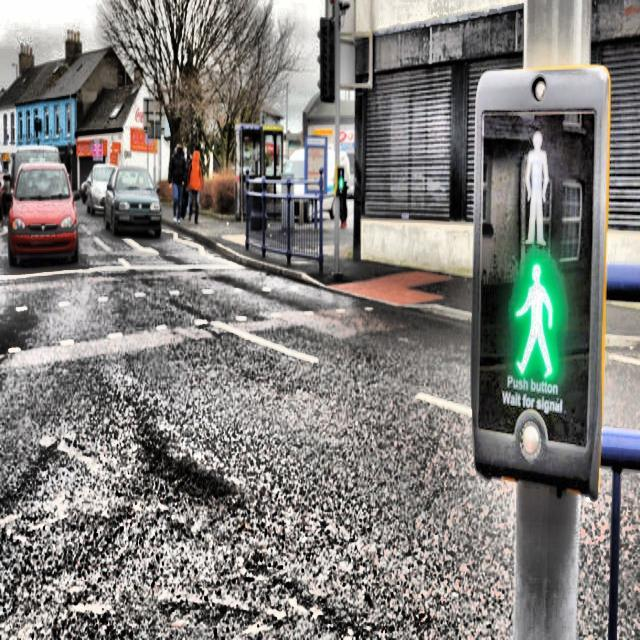green_light: (513, 258, 556, 380)
